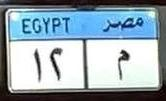1: (33, 48, 42, 82)
2: (47, 46, 66, 81)
meem: (113, 46, 131, 81)
